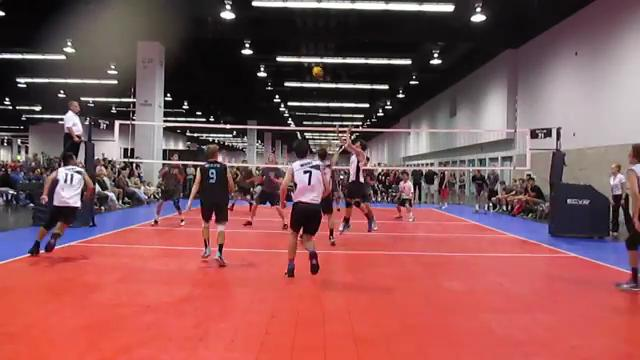Player: (279, 140, 330, 276), (28, 153, 93, 255), (187, 145, 234, 266), (616, 144, 639, 291), (244, 153, 287, 229), (317, 147, 341, 245), (317, 148, 340, 245), (152, 164, 184, 225), (229, 166, 253, 211), (396, 170, 414, 221)
Set: (331, 124, 382, 237)
ball: (313, 65, 324, 78)
